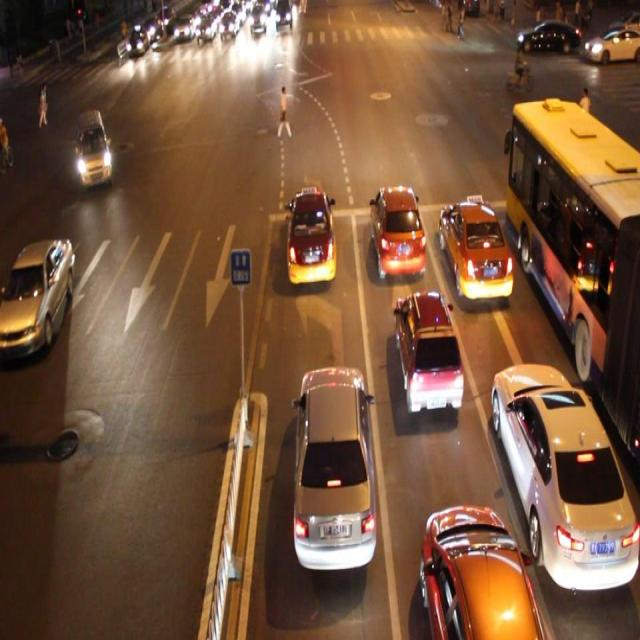car: (489, 361, 640, 594), (293, 362, 377, 577), (418, 500, 544, 640), (392, 288, 463, 417), (1, 236, 75, 358), (438, 195, 512, 305), (367, 183, 425, 278), (283, 190, 336, 284), (73, 111, 112, 189)
van: (504, 97, 640, 453)
